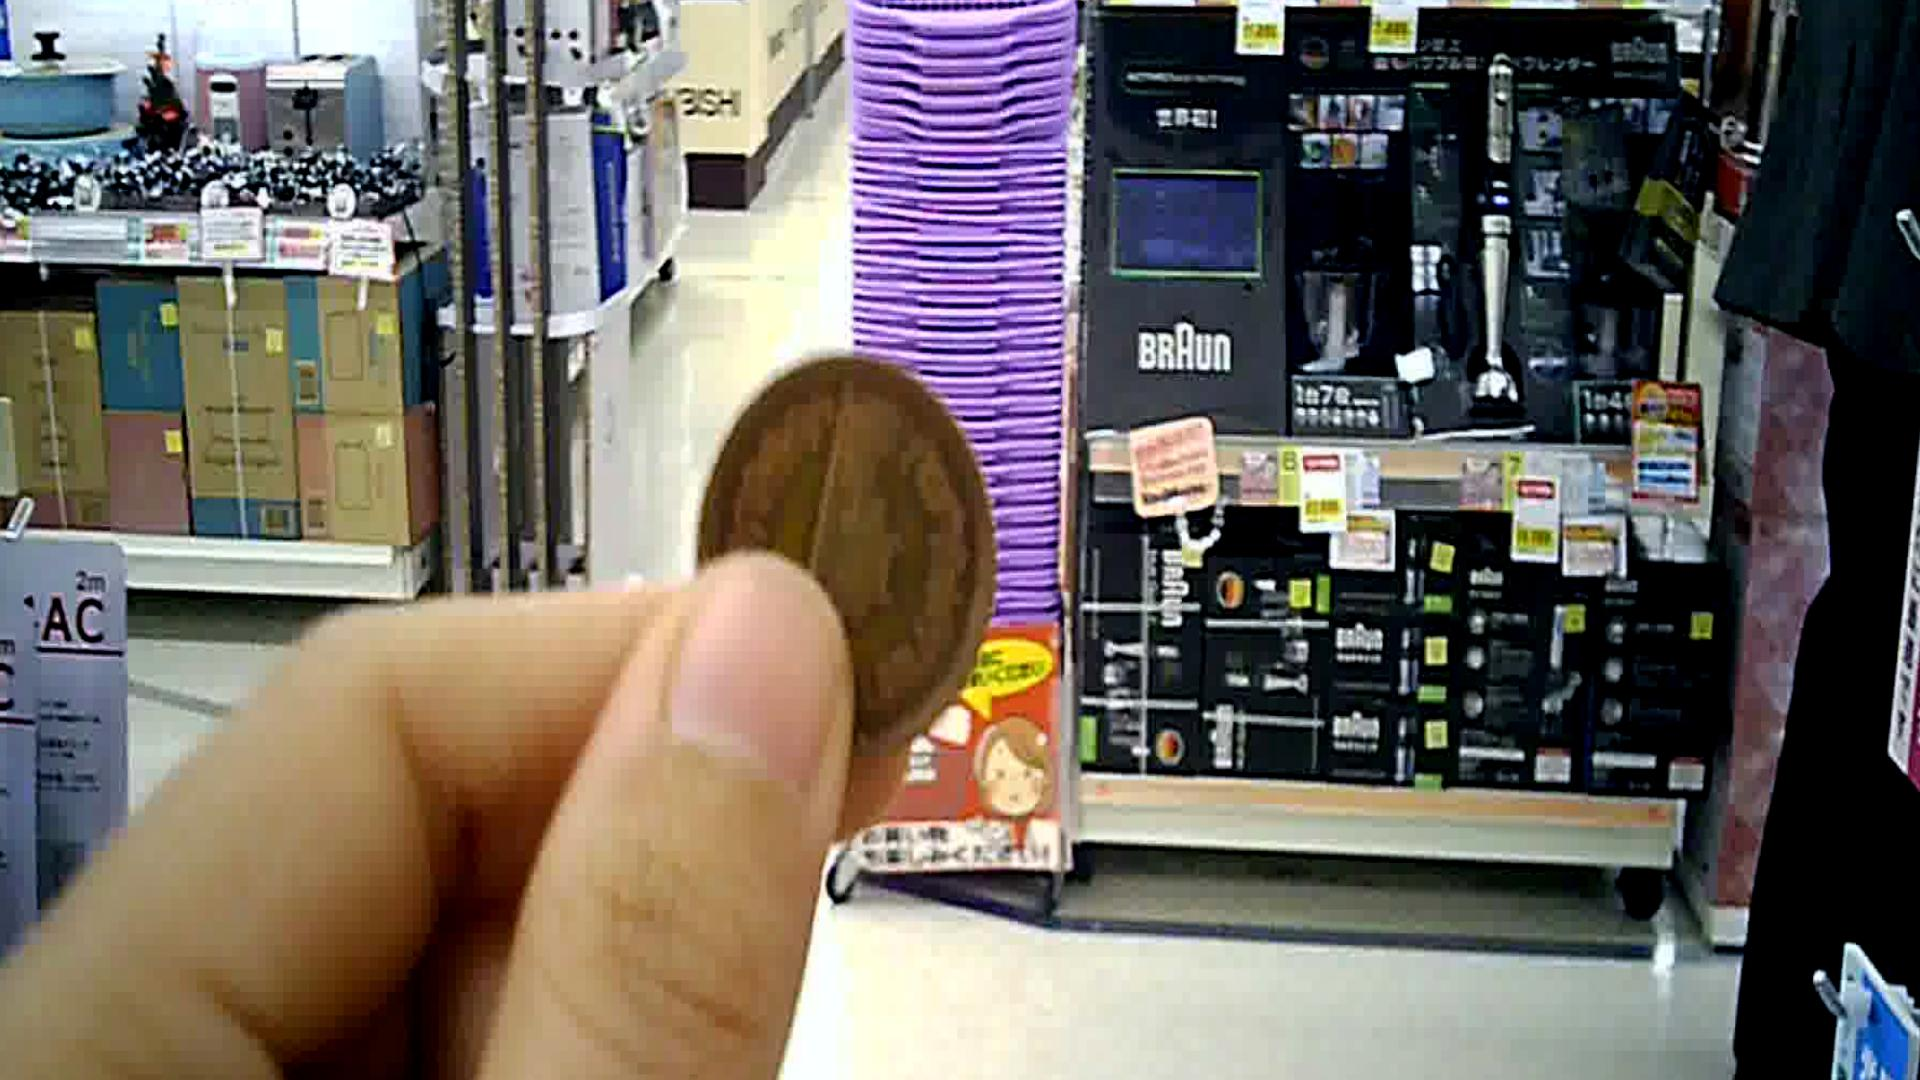10 Yen: (688, 349, 984, 735)
